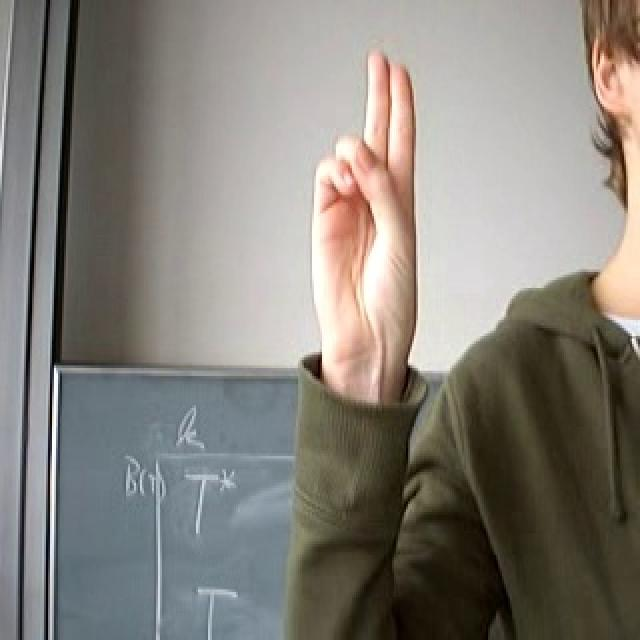U: (304, 40, 435, 362)
